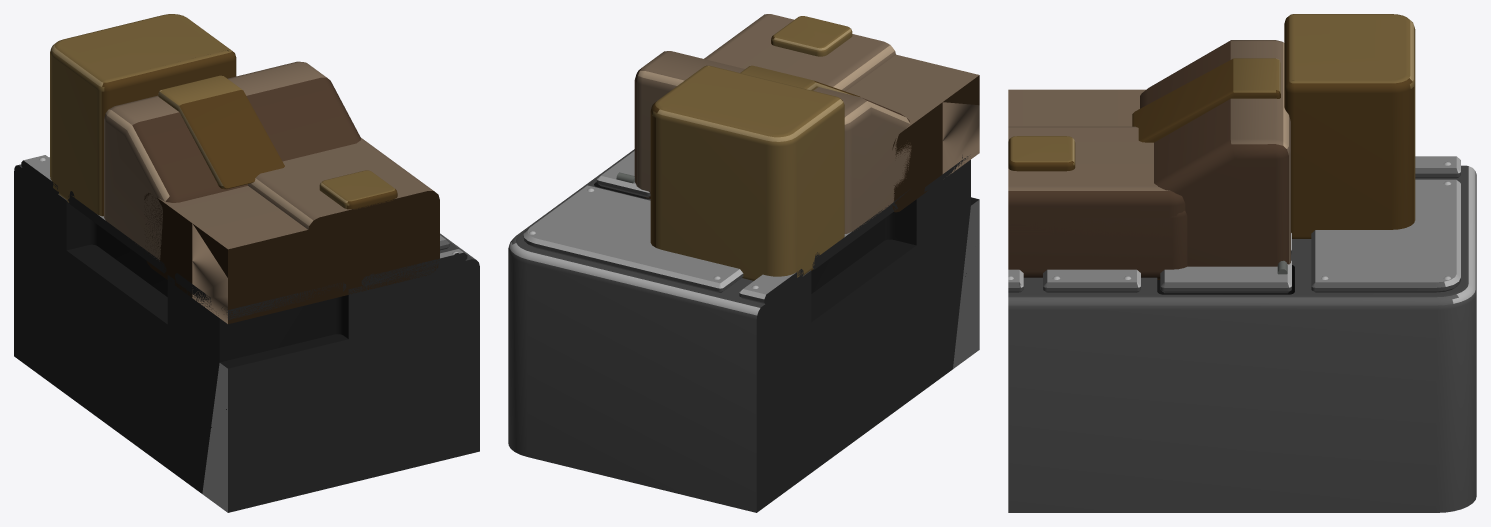
The model's file is bronze_pump_tr.glb.
The picture shows the model from 3 angles, left to right: view 1: azimuth 30°, elevation 25°; view 2: azimuth 150°, elevation 25°; view 3: azimuth 270°, elevation 25°; orthographic projection. The views are drawn at different scales.
Parts seen in each view (by area): view 1: bronze_pump_tr; view 2: bronze_pump_tr; view 3: bronze_pump_tr.
Boxes of the visible parts, box(x1,y1,x2,y2) form: bronze_pump_tr: box(14, 14, 479, 512); bronze_pump_tr: box(508, 14, 979, 512); bronze_pump_tr: box(1008, 14, 1476, 512).
Bounding box in the file's own units: 19 × 24.2 × 27.95.
